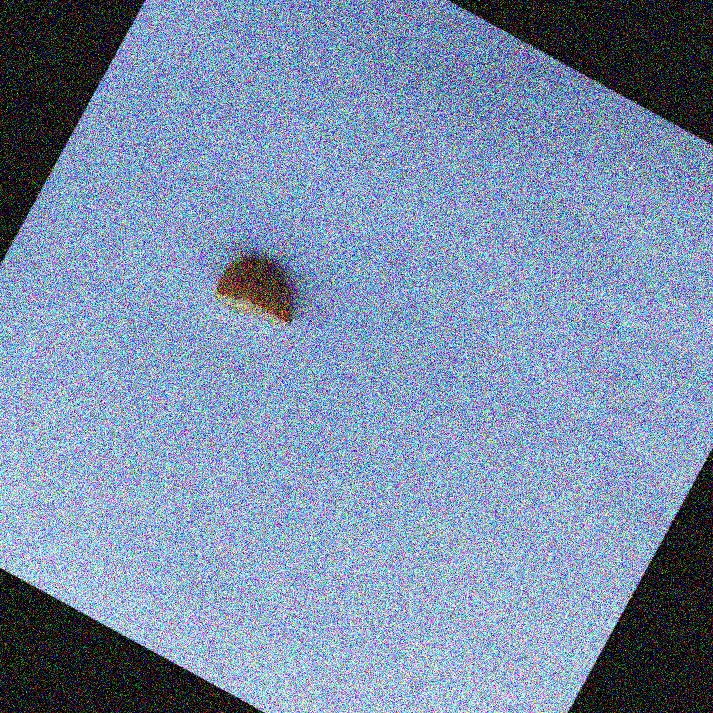grade4: (201, 237, 323, 346)
